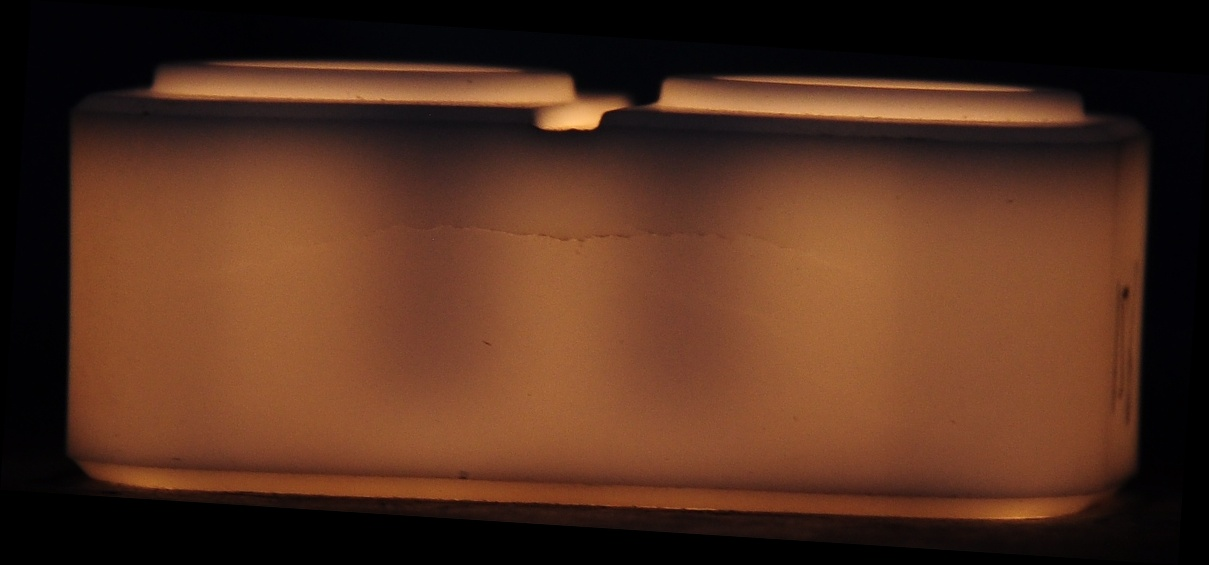flaw: (101, 207, 916, 291)
